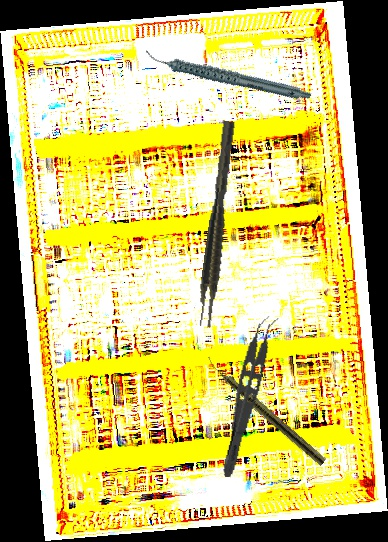Handpiece: (143, 17, 312, 133), (202, 355, 328, 467)
Tissue Forceps: (219, 312, 281, 482), (194, 120, 242, 328)
